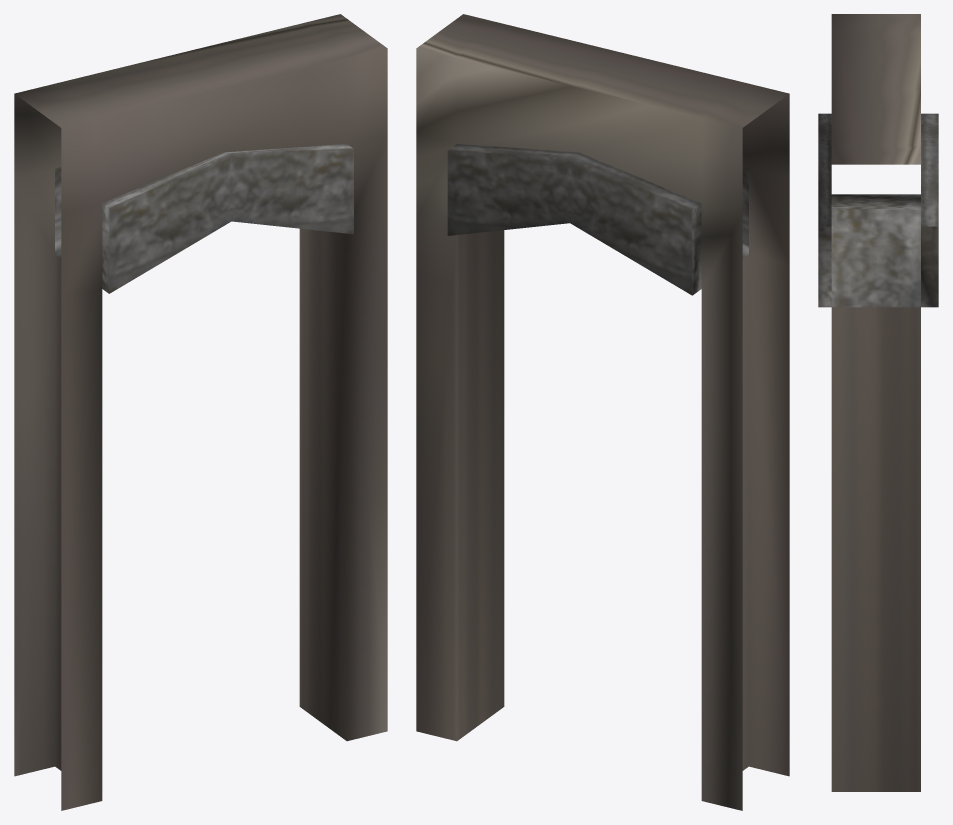
Rendered from towerblock_entry.glb.
3 renders of one model, left to right at view 1: azimuth 30°, elevation 25°; view 2: azimuth 150°, elevation 25°; view 3: azimuth 270°, elevation 25°, orthographic. The views are drawn at different scales.
Visible parts, largest first — view 1: towerblock_entry; view 2: towerblock_entry; view 3: towerblock_entry.
Part boxes in pixels (left/top/right/bottom): towerblock_entry: left=14, top=14, right=387, bottom=810; towerblock_entry: left=416, top=14, right=789, bottom=810; towerblock_entry: left=818, top=14, right=938, bottom=791.
Bounding box in the file's own units: 4 × 8 × 1.35.
Materials: 2 (2 with a texture image).
